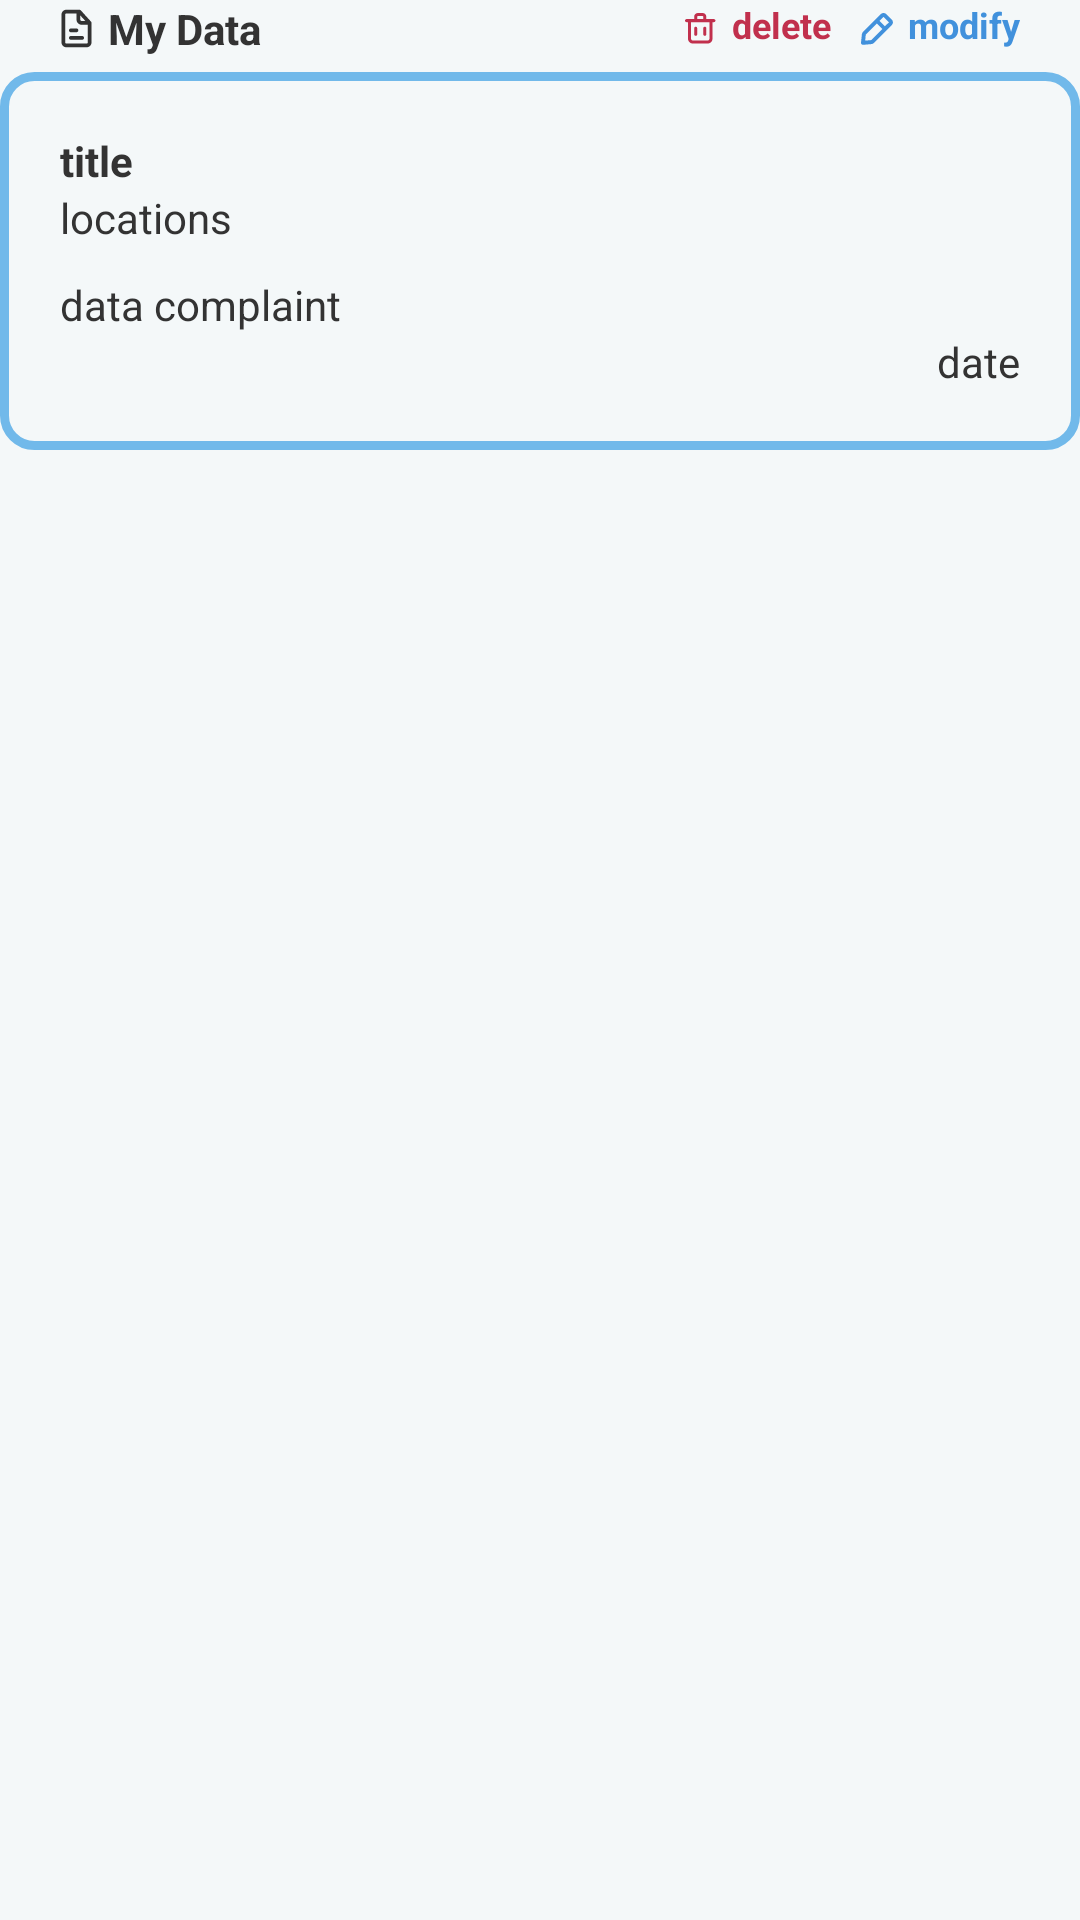

Icon click points for this 1080 × 1920 phone screenshot, format [x,y]:
documents: [76,28]
edit data: [877,29]
